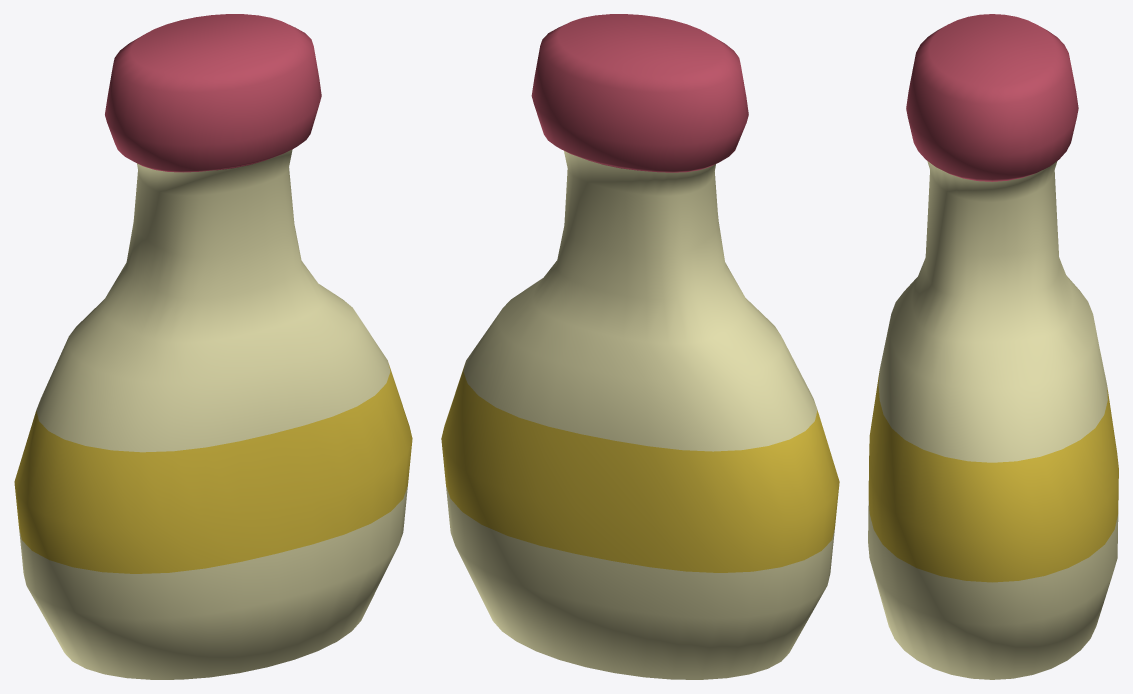
The model's file is Syrup.fbx.
The picture shows the model from 3 angles, left to right: view 1: azimuth 30°, elevation 25°; view 2: azimuth 150°, elevation 25°; view 3: azimuth 270°, elevation 25°; orthographic projection. The views are drawn at different scales.
Parts seen in each view (by area): view 1: Cylinder.004; view 2: Cylinder.004; view 3: Cylinder.004.
Part boxes in pixels (x1=…): Cylinder.004: x1=14, y1=14, x2=412, y2=679; Cylinder.004: x1=441, y1=14, x2=839, y2=679; Cylinder.004: x1=868, y1=14, x2=1118, y2=679.
Bounding box in the file's own units: 103 × 155 × 62.5.
